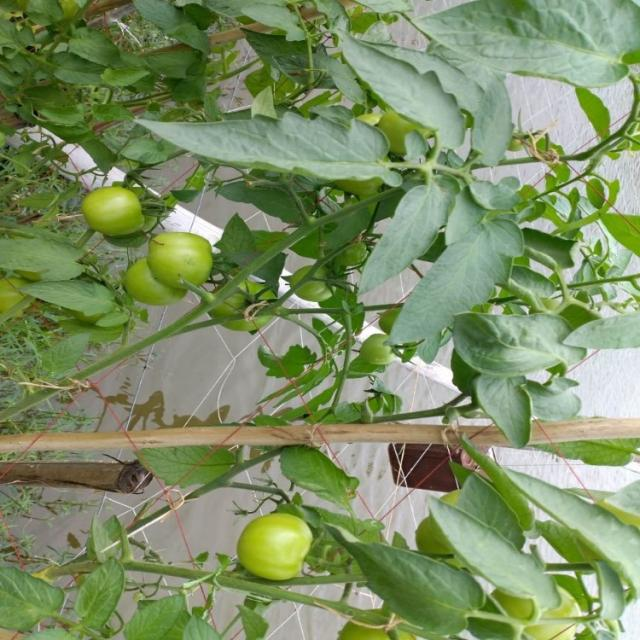tomato: (231, 493, 324, 586), (141, 218, 218, 303), (74, 178, 148, 240), (368, 101, 427, 164), (204, 283, 274, 336), (128, 253, 177, 306), (356, 333, 405, 385), (293, 264, 333, 314), (5, 271, 39, 326)
